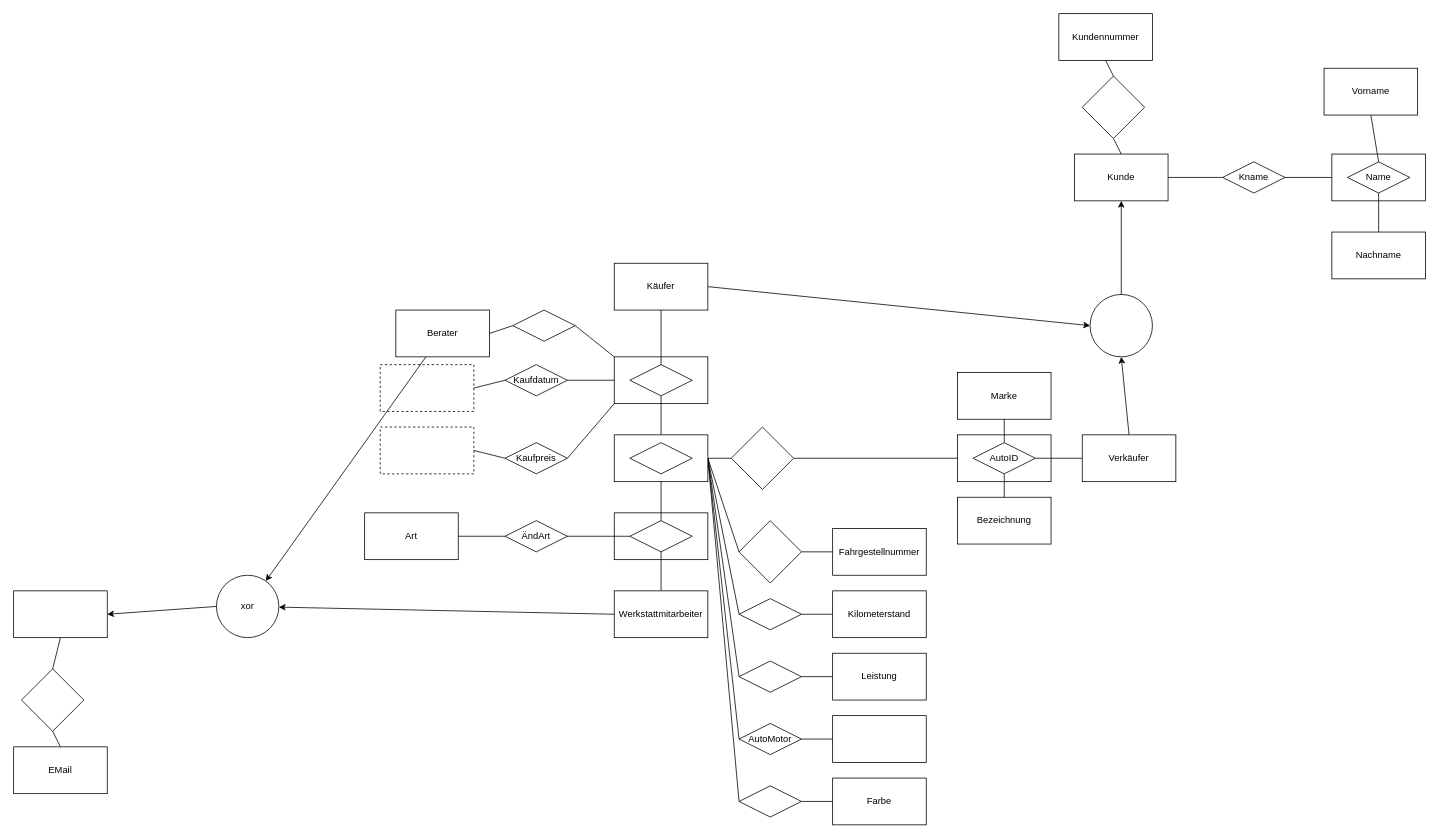
The diagram is 1439 pixels wide and 838 high, and some of its shapes have lost their labels. Here are the shapes that lost their labels. From the top down, the centre of each, then its label:
At (543,325): "Kaufber".
At (1120,325): "and".
At (426,387): "Datum".
At (660,380): "Autokauf".
At (426,450): "Preis".
At (660,458): "Auto".
At (660,536): "Änderung".
At (60,614): "Mitarbeiter".
At (769,614): "AutoKm".
At (769,676): "AutoLeistung".
At (879,738): "Motorart".
At (769,801): "AutoFarbe".
